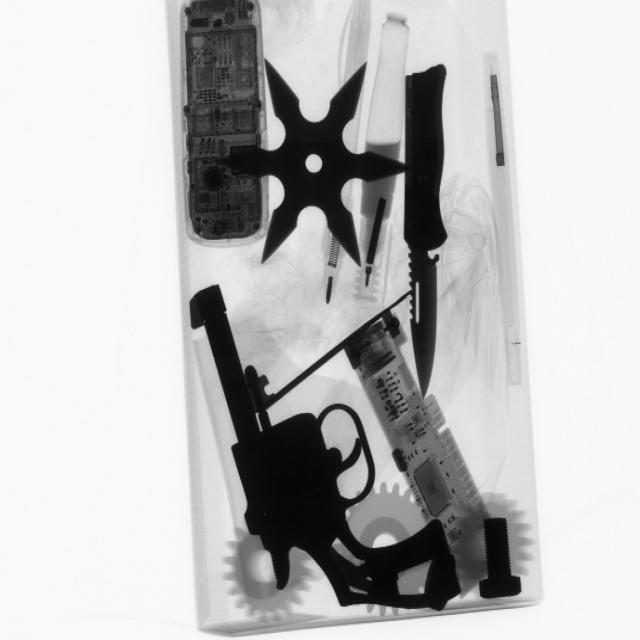GUN: (186, 282, 471, 624)
KNIFE: (395, 58, 463, 386)
SHURIKEN: (225, 52, 398, 271)
